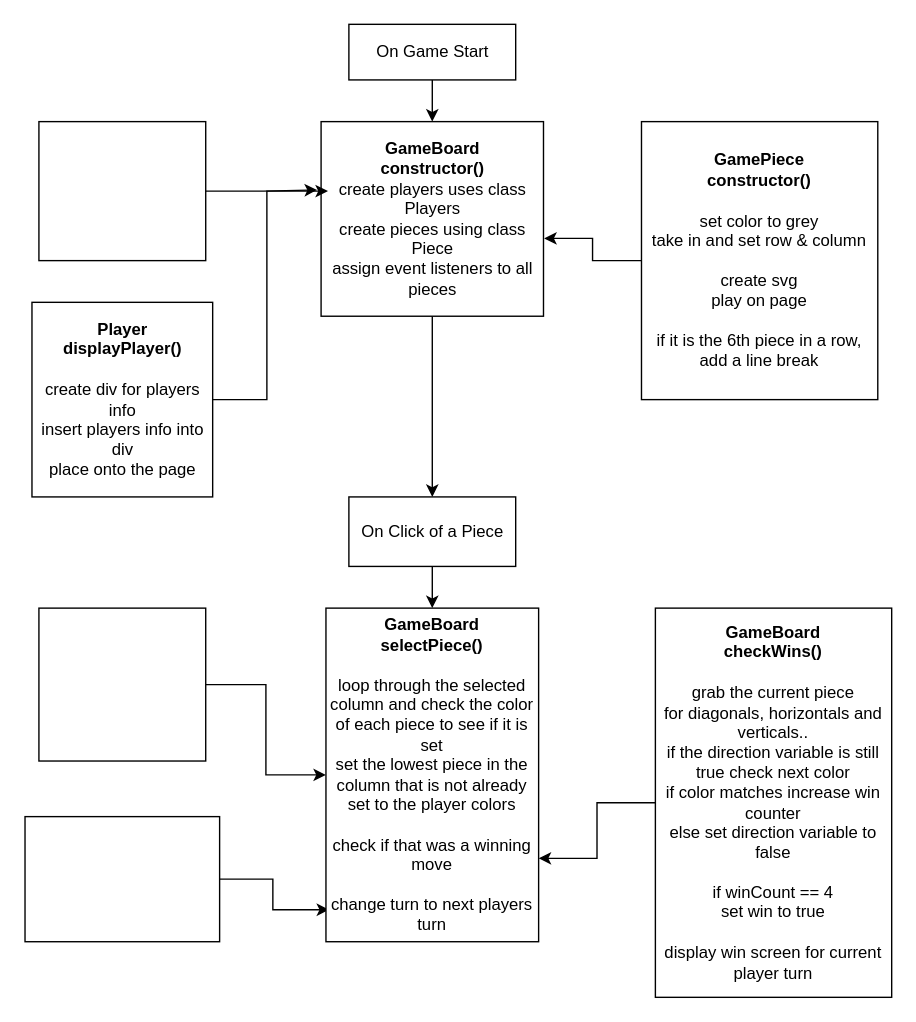
Some shapes in this 916 by 1022 pixel diagram are drawn without their labels. The centre of each missing label's shape, as x and y in pixels:
"GameBoard changeTurn() change turn from 0 to 1 or 1 to 0" goes at (x=122, y=878).
"GamePiece setColor() set piece color to specified color" goes at (x=122, y=684).
"Player constructor() set num & color as input into the constructor" goes at (x=122, y=190).
